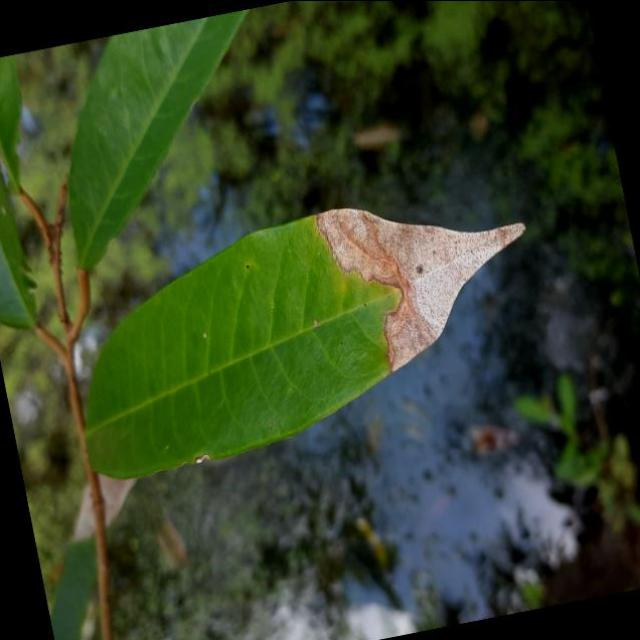Leaf Blight: (42, 166, 570, 494)
